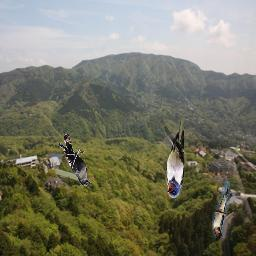Crow: (58, 134, 92, 186)
Swallow: (166, 120, 185, 198), (212, 182, 230, 239)
